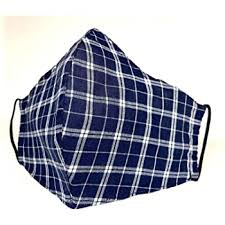cloth_mask: (11, 29, 212, 212)
